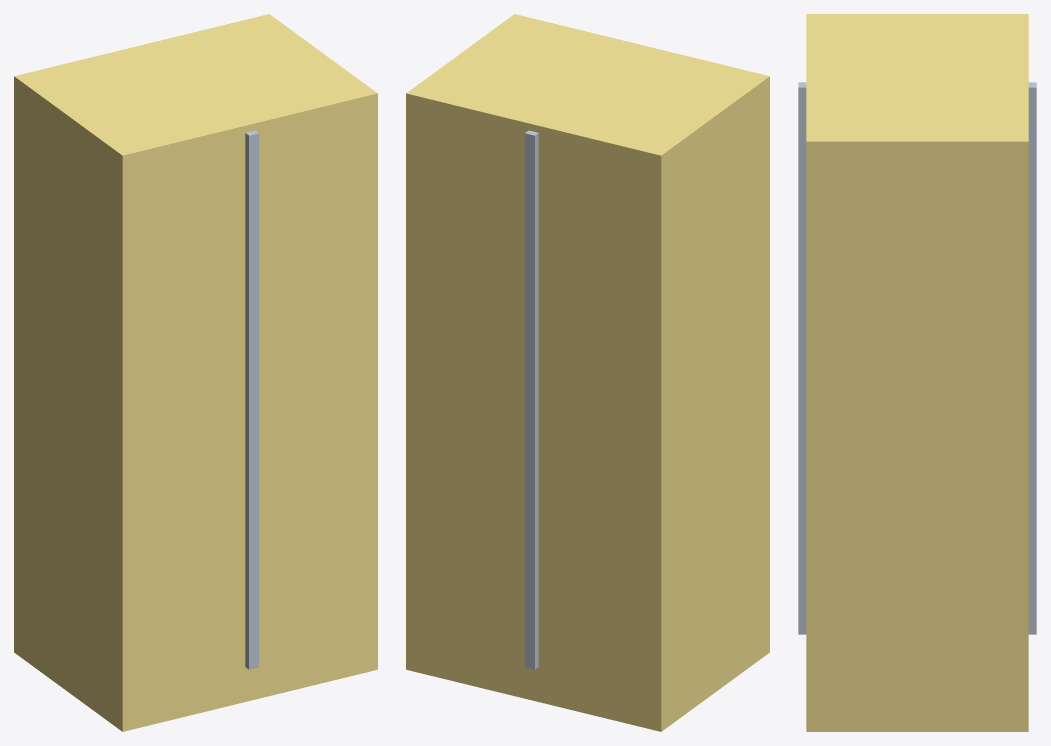
Rendered from ppe_cabinet.glb.
The picture shows the model from 3 angles, left to right: view 1: azimuth 30°, elevation 25°; view 2: azimuth 150°, elevation 25°; view 3: azimuth 270°, elevation 25°; orthographic projection. The views are drawn at different scales.
Parts seen in each view (by area): view 1: tall ppe cabinet body, cabinet door seam; view 2: tall ppe cabinet body, cabinet door seam; view 3: tall ppe cabinet body, cabinet door seam.
Part boxes in pixels (left/top/right/bottom): tall ppe cabinet body: left=14, top=14, right=377, bottom=731; cabinet door seam: left=245, top=130, right=259, bottom=669; tall ppe cabinet body: left=406, top=14, right=769, bottom=731; cabinet door seam: left=524, top=130, right=538, bottom=669; tall ppe cabinet body: left=806, top=14, right=1028, bottom=731; cabinet door seam: left=798, top=82, right=1036, bottom=634.
Bounding box in the file's own units: 0.38 × 0.82 × 0.3.
